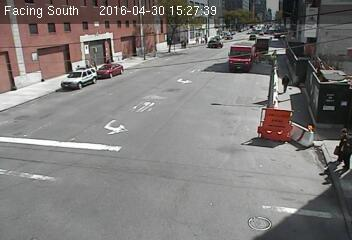neg: (214, 53, 242, 89), (119, 62, 140, 90), (9, 44, 30, 72), (132, 39, 150, 62), (287, 49, 304, 71), (267, 38, 282, 58), (201, 35, 215, 53), (160, 34, 174, 51), (45, 36, 55, 49), (86, 61, 94, 72)
pos: (333, 132, 351, 173), (279, 73, 295, 94), (252, 49, 264, 66)
